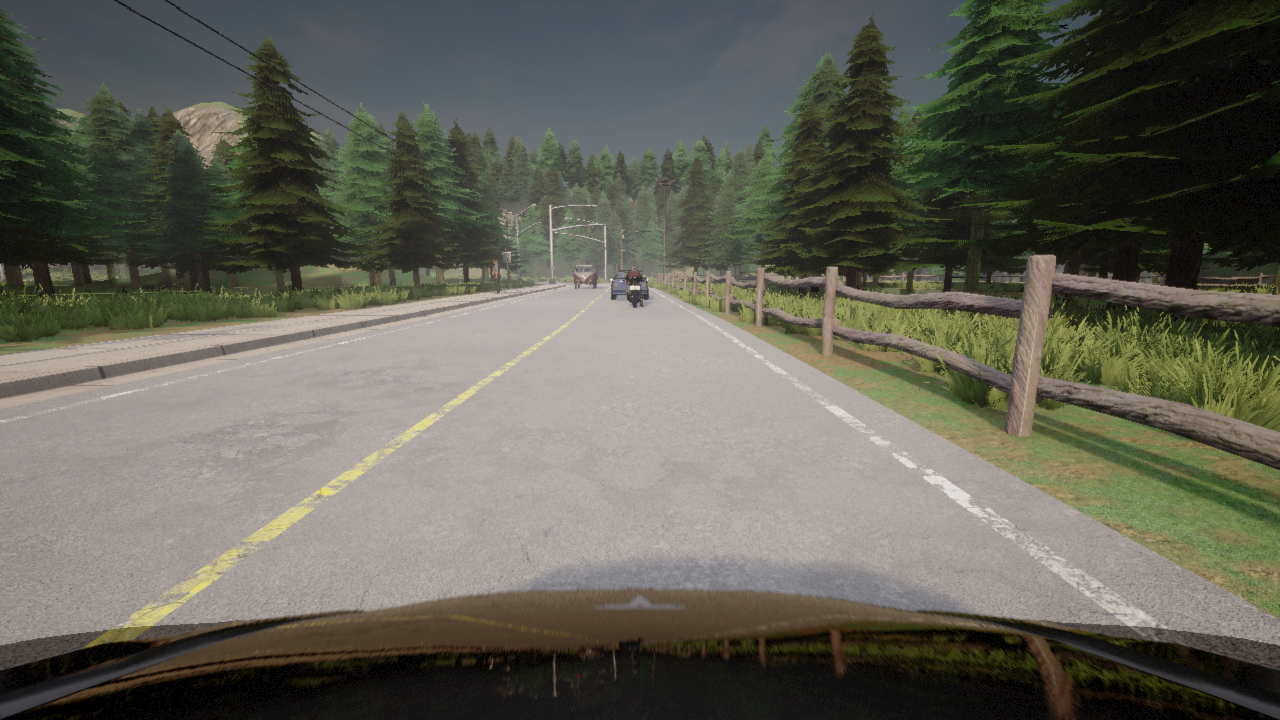cyclist: (0, 588, 1279, 719), (610, 270, 648, 299), (623, 275, 644, 307), (572, 264, 597, 288), (731, 272, 756, 279)
pedestrian: (492, 259, 500, 293)
